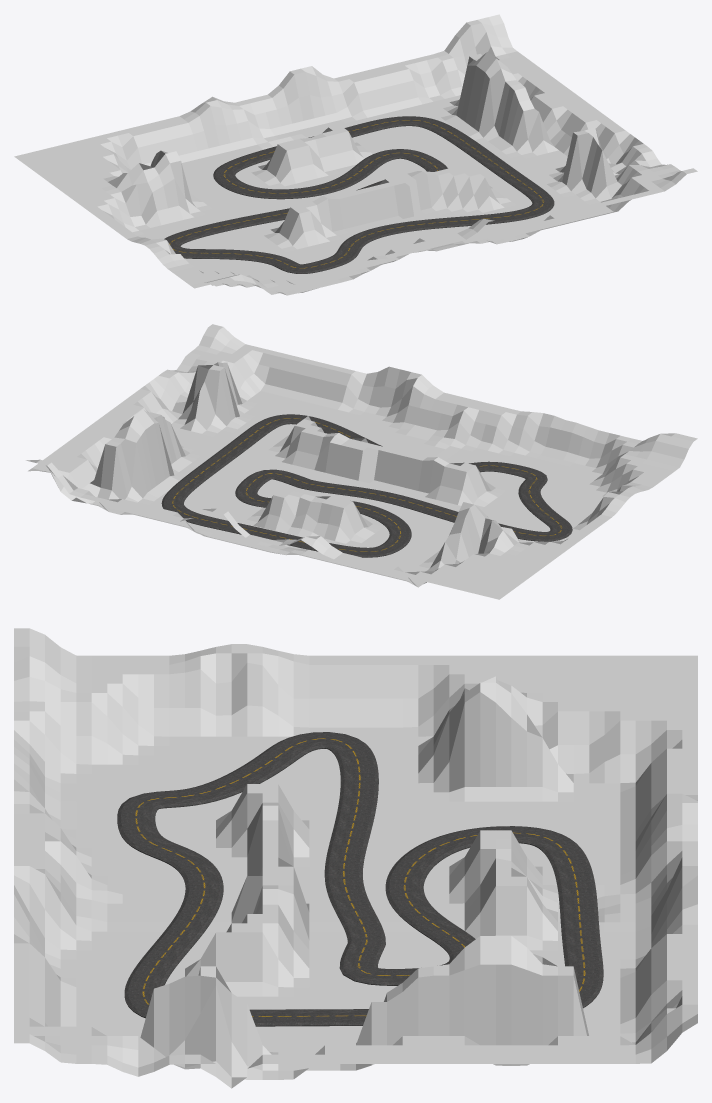
File: road_3.glb
3 views of the same model, one above another, from view 1: azimuth 30°, elevation 25°; view 2: azimuth 150°, elevation 25°; view 3: azimuth 270°, elevation 25° (orthographic). The views are drawn at different scales.
Parts seen in each view (by area): view 1: ground-col, roadmesh-col; view 2: ground-col, roadmesh-col; view 3: ground-col, roadmesh-col.
Boxes of the visible parts, x1,y1,x2,y2 form: ground-col: (14,14,697,295); roadmesh-col: (164,116,554,273); ground-col: (26,324,697,599); roadmesh-col: (161,414,572,557); ground-col: (14,628,697,1088); roadmesh-col: (117,732,603,1026).
Bounding box in the file's own units: 50.68 × 7.14 × 35.89.
Materials: 1 (1 with a texture image).
